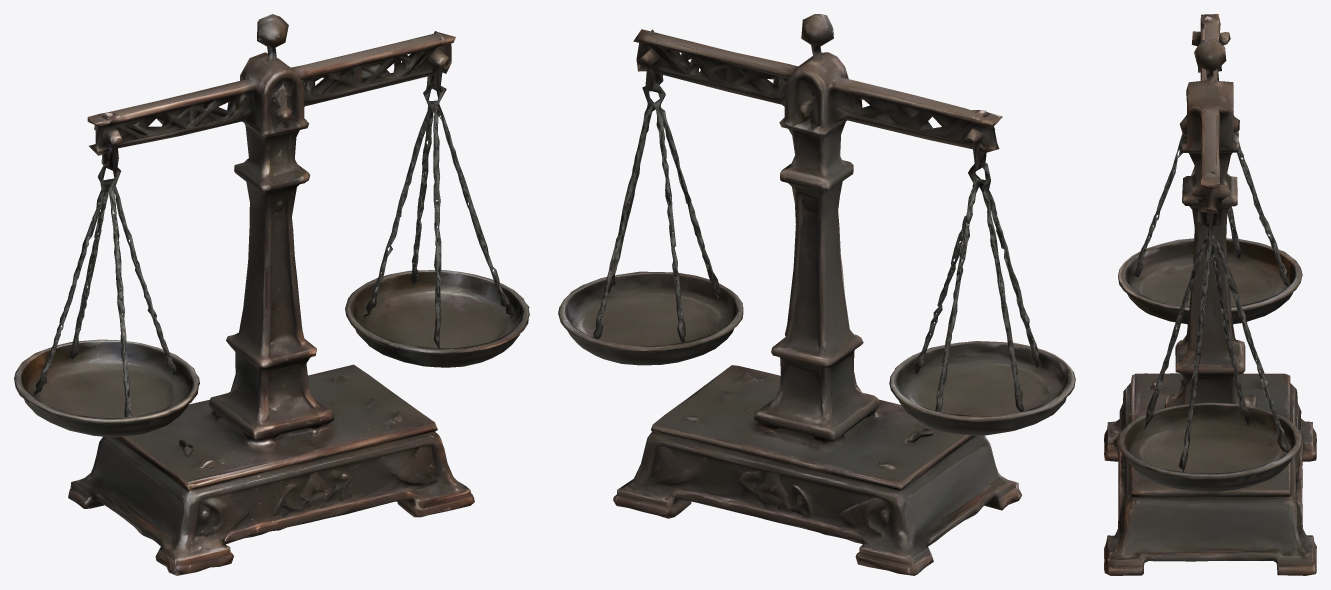
File: balance+scale+3d+model (1).glb
3 views of the same model, side by side, from view 1: azimuth 30°, elevation 25°; view 2: azimuth 150°, elevation 25°; view 3: azimuth 270°, elevation 25° (orthographic). The views are drawn at different scales.
Visible parts, largest first — view 1: tripo_node_4b1bb3bf-43c2-41b4-8e2f-447076f2c0a9; view 2: tripo_node_4b1bb3bf-43c2-41b4-8e2f-447076f2c0a9; view 3: tripo_node_4b1bb3bf-43c2-41b4-8e2f-447076f2c0a9.
Part boxes in pixels (bbox=[...]): tripo_node_4b1bb3bf-43c2-41b4-8e2f-447076f2c0a9: bbox=[14, 14, 529, 575]; tripo_node_4b1bb3bf-43c2-41b4-8e2f-447076f2c0a9: bbox=[558, 14, 1075, 575]; tripo_node_4b1bb3bf-43c2-41b4-8e2f-447076f2c0a9: bbox=[1104, 14, 1316, 575].
Bounding box in the file's own units: 1 × 0.9505 × 0.3931.
Materials: 1 (1 with a texture image).
